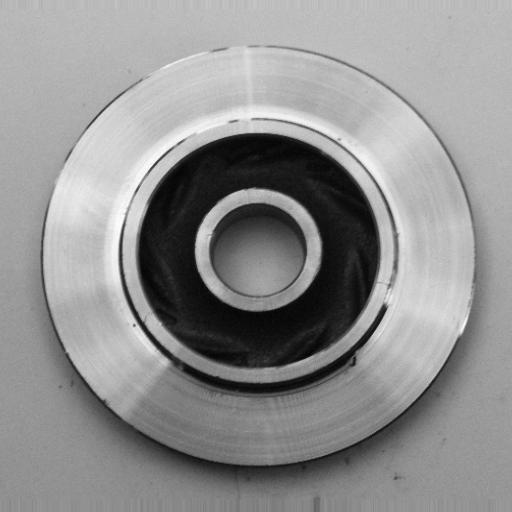crack: (337, 341, 369, 379)
scratch: (175, 110, 264, 150), (375, 253, 414, 328)
unpolished_casting: (40, 41, 480, 473)
